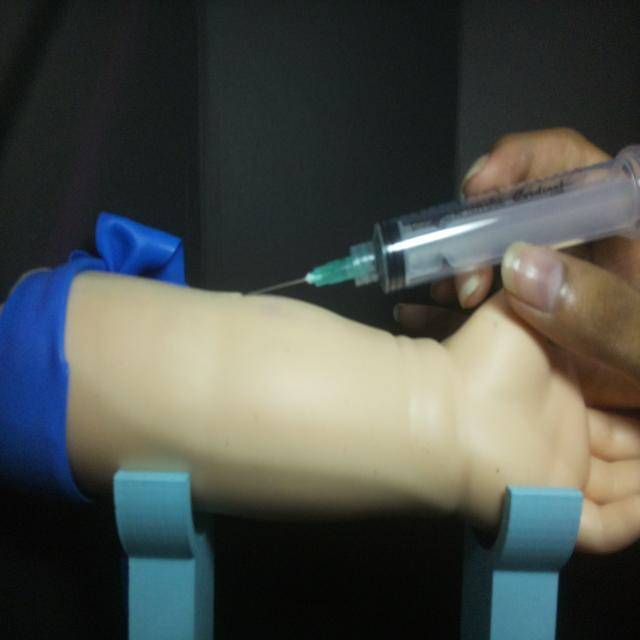19deg: (245, 141, 638, 302)
